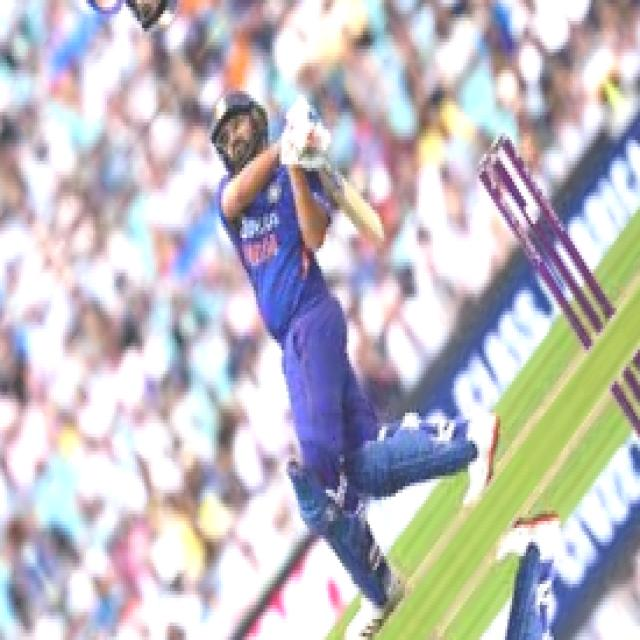toe: (356, 203, 389, 255)
